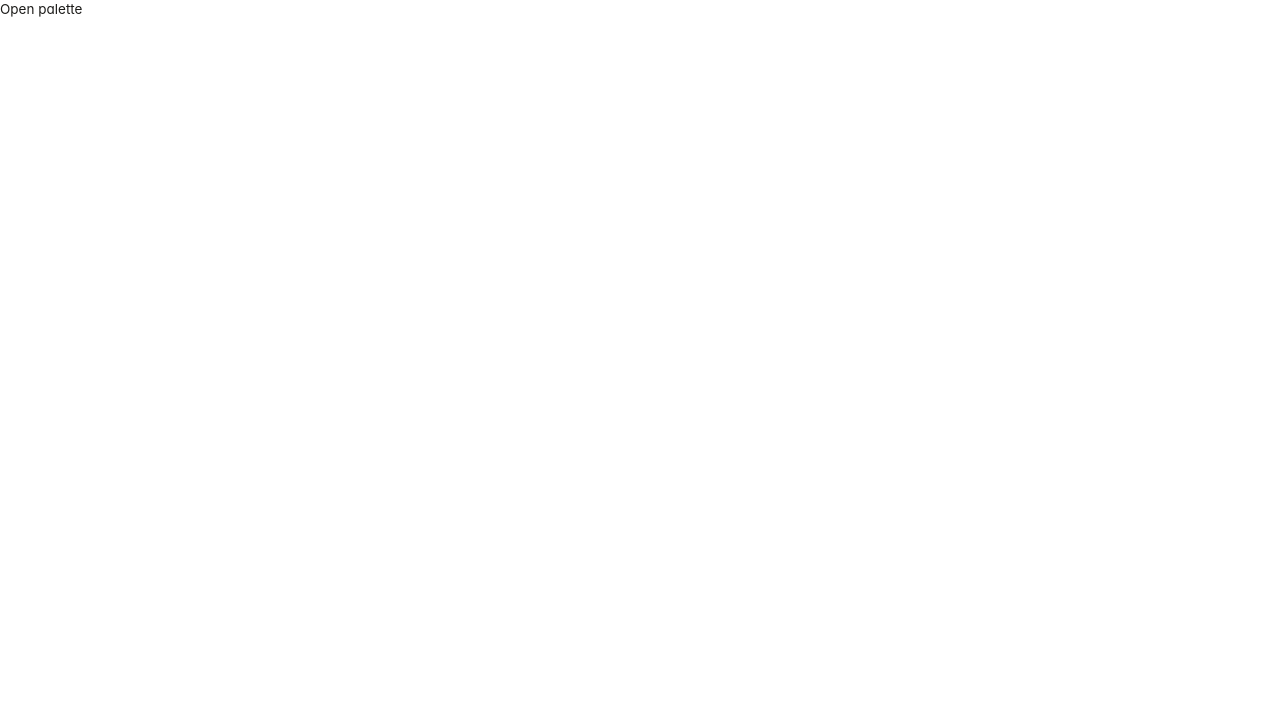
Scenario: CommandPalette › arrow keys move the active option and Enter follows its href
Press k
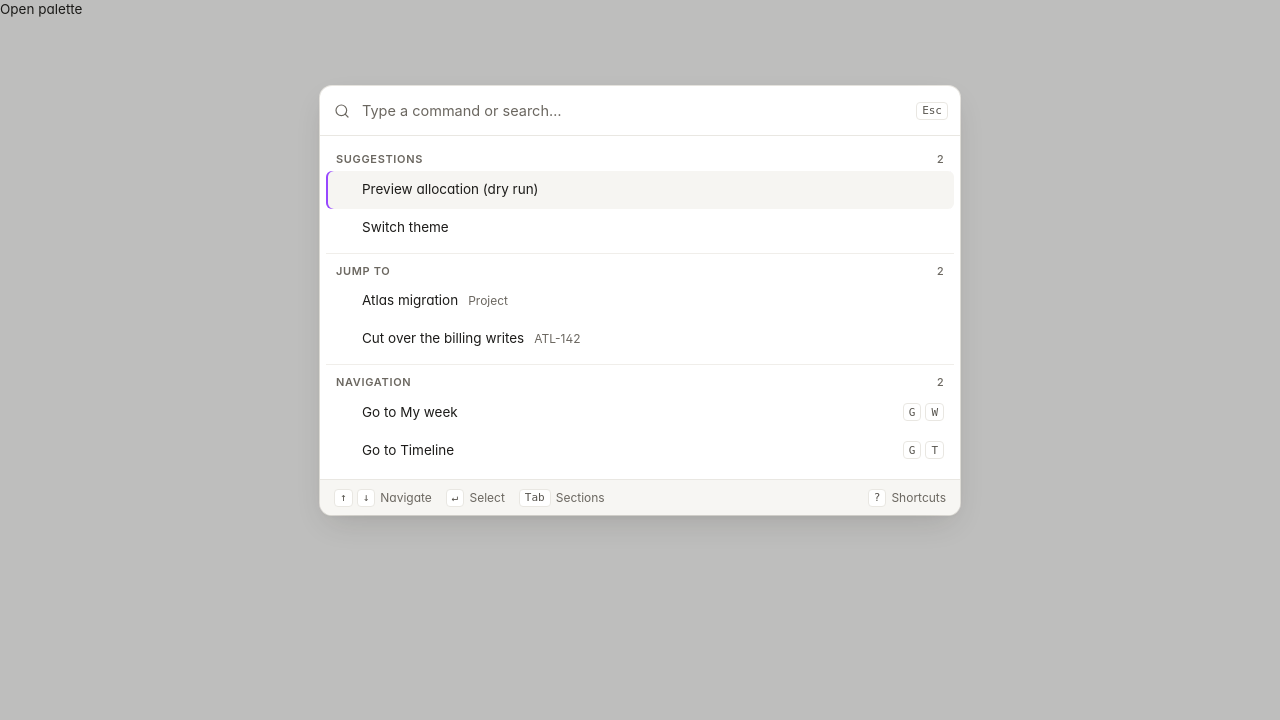
In the dropdown: point(632, 111) [360,86,904,135], type "atlas"
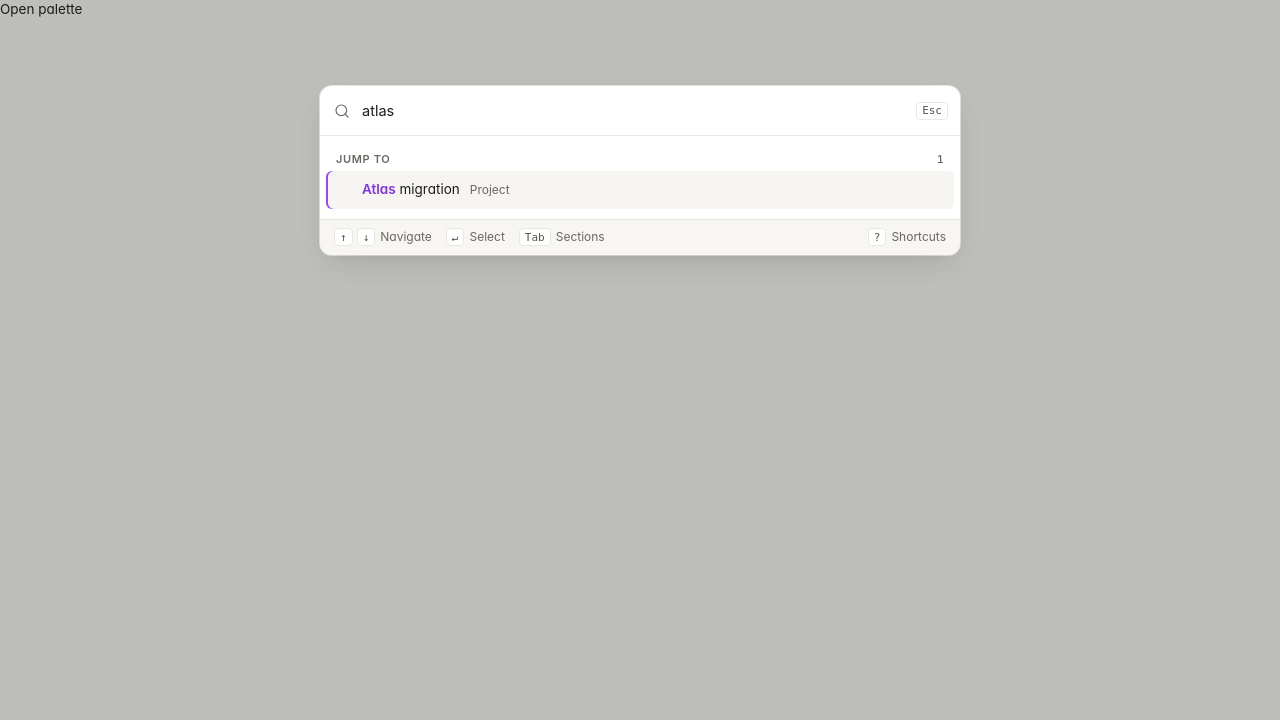
Expected: the option shows "Atlas migration", [326,171,954,209]
Press ArrowUp in the dropdown, box [360,86,904,135]
Press ArrowDown in the dropdown, box [360,86,904,135]
Expected: the option shows "Atlas migration", [326,171,954,209]
Press Enter in the dropdown, box [360,86,904,135]
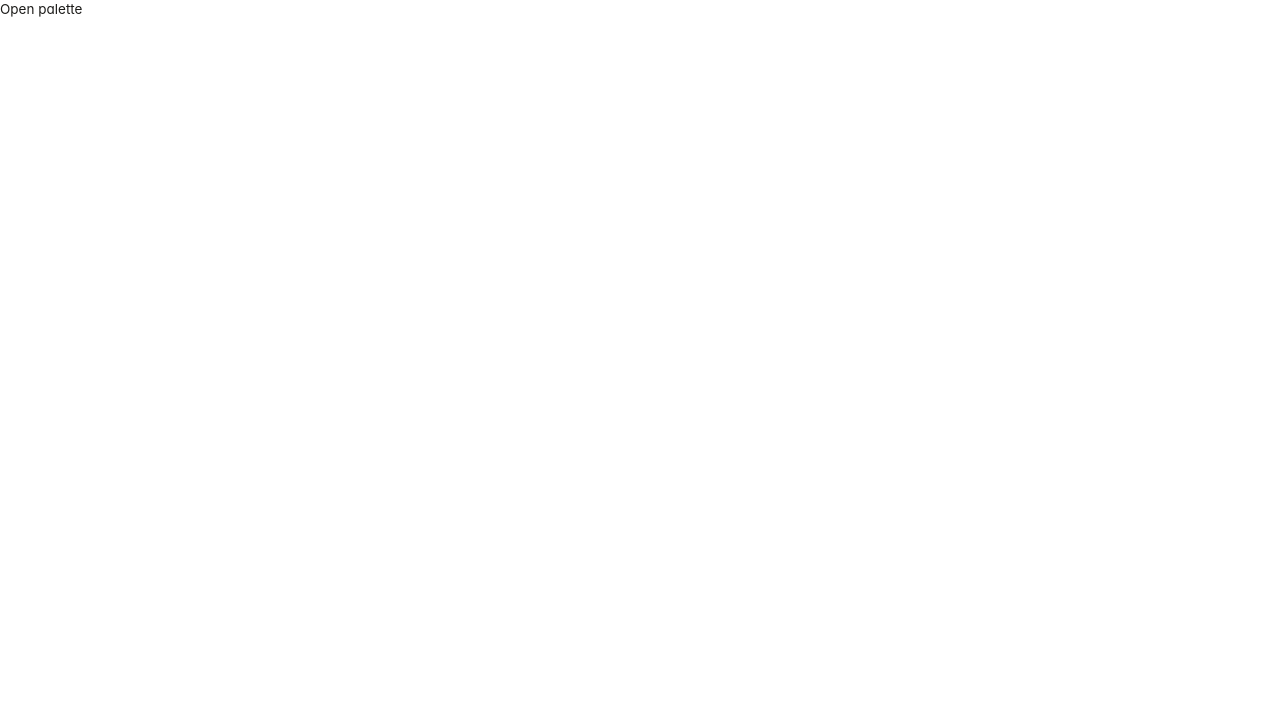
Expected: the dialog is gone
